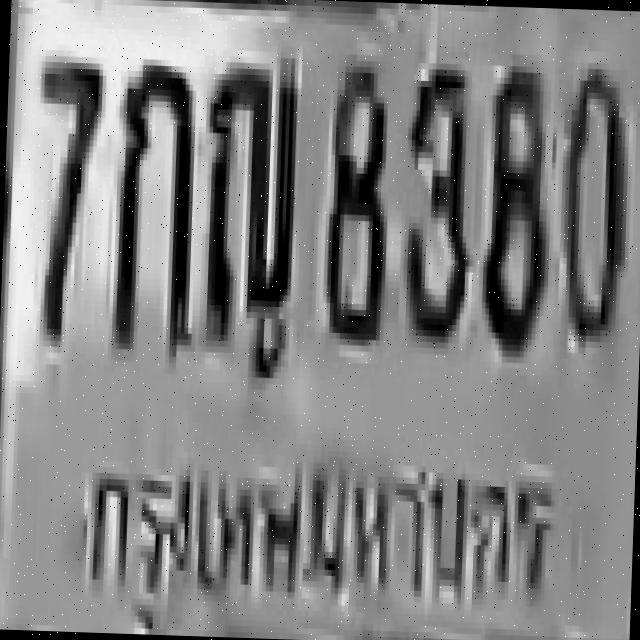0: (554, 61, 628, 336)
10GorGai: (108, 52, 194, 351)
22YorYing: (198, 55, 298, 348)
3: (398, 53, 472, 340)
7: (29, 49, 100, 336)
8: (476, 55, 552, 348), (321, 56, 389, 336)
Bangkok: (68, 425, 564, 629)
